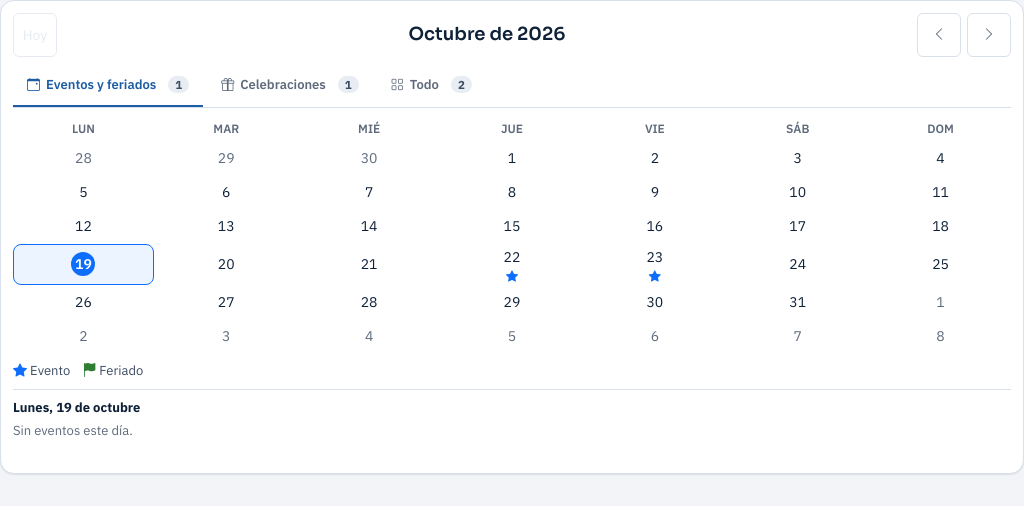
Test case: El calendario del mes (ampliado) › muestra el mes con sus fechas marcadas y lo de hoy
Expected: the heading "Octubre de 2026" is shown, [408,23,565,45]
Expected: the cell named "viernes, 23 de octubre: Evento, Feria de salud" is shown, [584,244,725,285]
Click the tab "Celebraciones 1": coordinates (290, 86) [207,65,373,106]
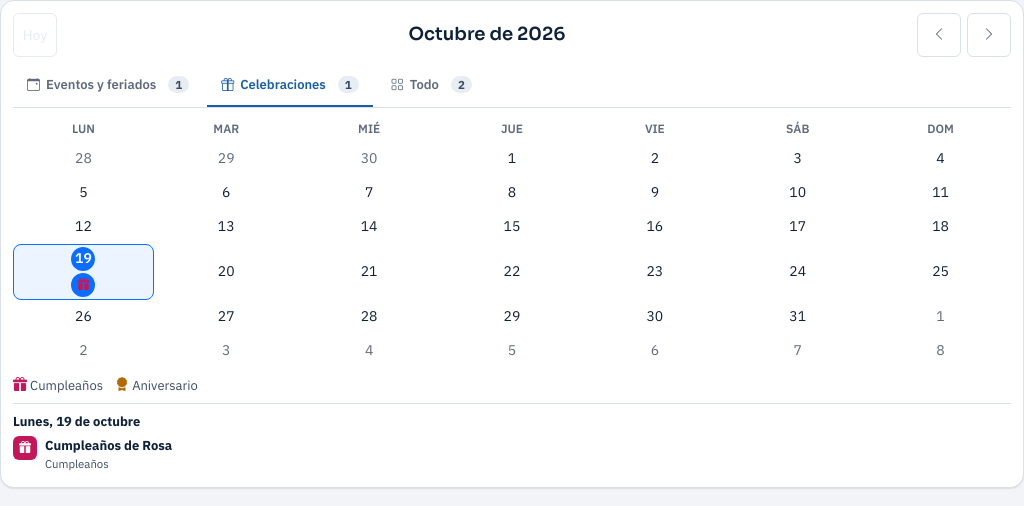
Expected: the cell named "jueves, 22 de octubre" is shown, [442,244,582,300]
Expected: the text "Cumpleaños de Rosa" is shown, [45,436,172,454]
Click the tab "Todo 2": coordinates (431, 86) [377,65,486,106]
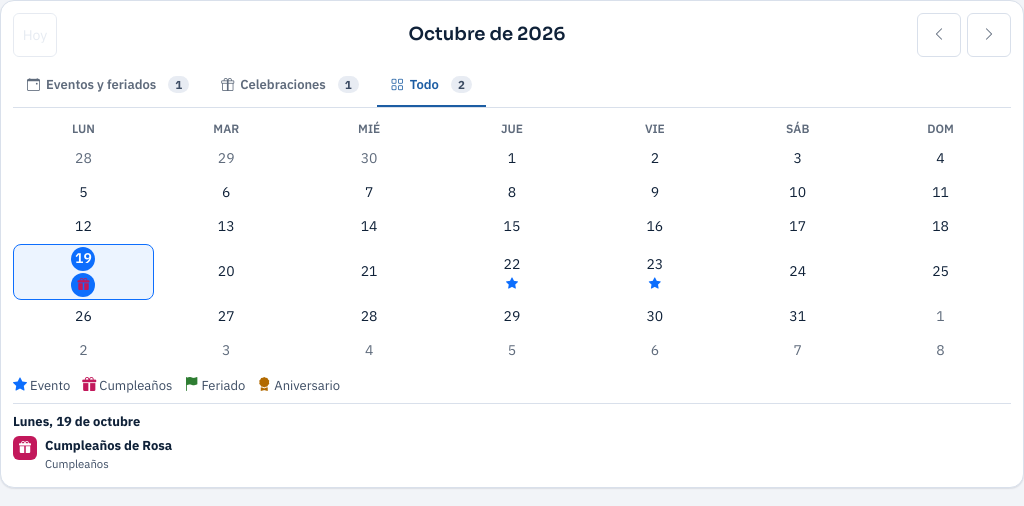
Expected: the cell named "lunes, 19 de octubre: Cumpleaños, Cumpleaños de Rosa" is shown, [13,244,154,300]
Expected: the cell named "jueves, 22 de octubre: Evento, Feria de salud" is shown, [442,244,582,300]
